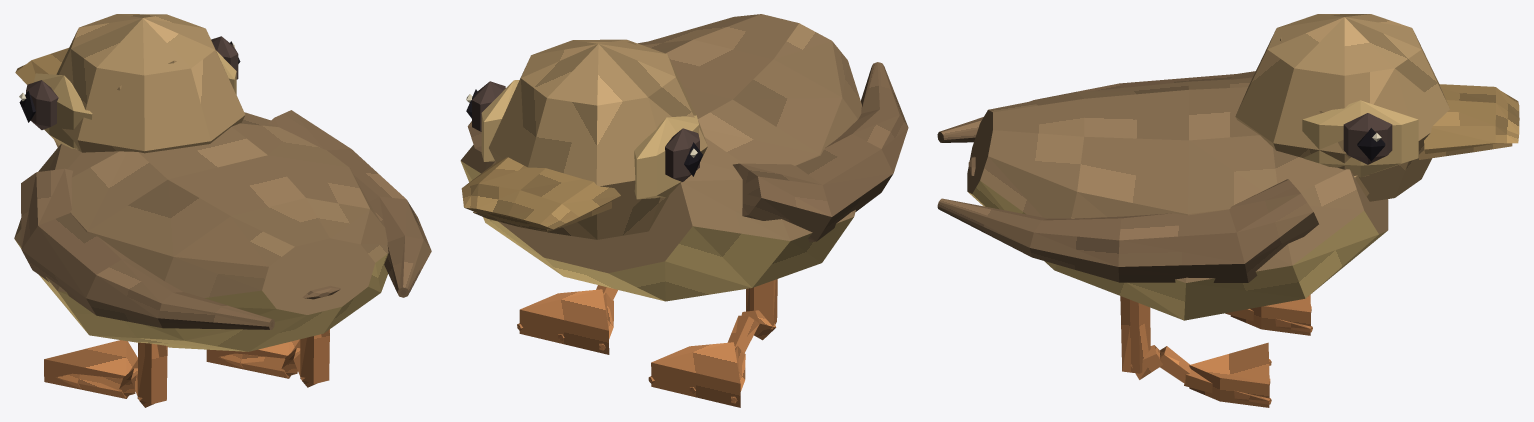
Rendered from mon_duck_domestic_chick.glb.
3 views of the same model, side by side, from view 1: azimuth 30°, elevation 25°; view 2: azimuth 150°, elevation 25°; view 3: azimuth 270°, elevation 25° (orthographic). The views are drawn at different scales.
Visible parts, largest first — view 1: closed_body; view 2: closed_body; view 3: closed_body.
Part boxes in pixels (<box>): closed_body: <box>14,14,431,407</box>; closed_body: <box>460,14,908,407</box>; closed_body: <box>937,14,1519,407</box>.
Size of the model in its own units: 0.0818 by 0.0745 by 0.1172.
Materials: 1 (1 with a texture image).
